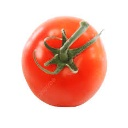tomato: (21, 16, 108, 107)
